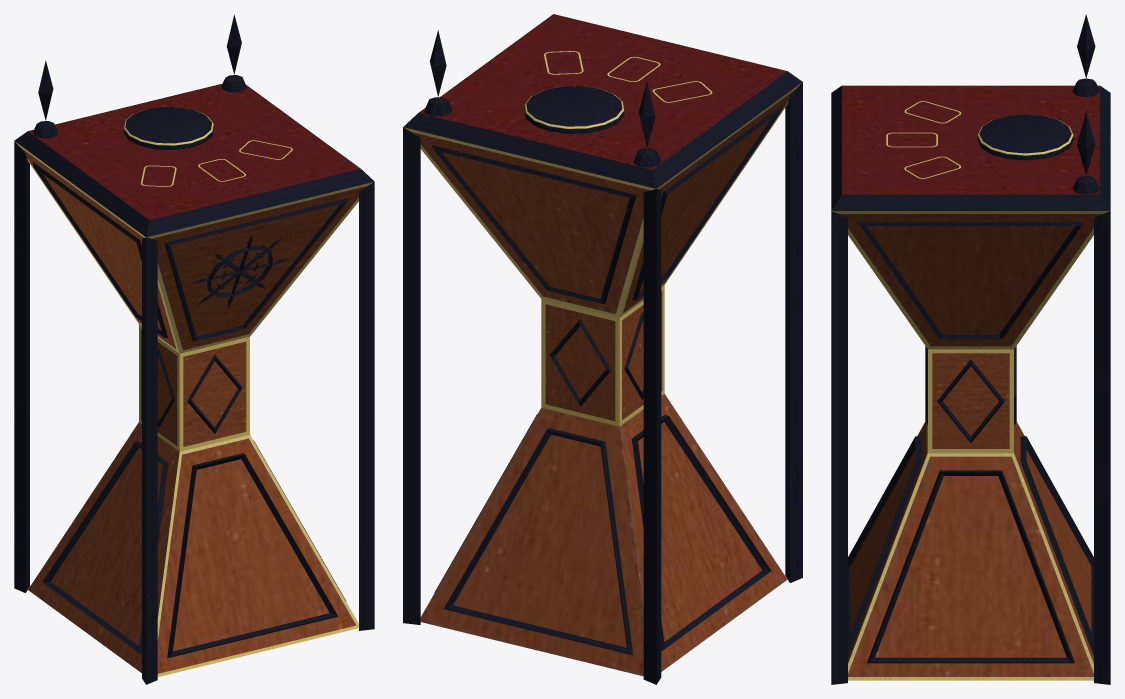
The model's file is plak_table.fbx.
The picture shows the model from 3 angles, left to right: view 1: azimuth 30°, elevation 25°; view 2: azimuth 150°, elevation 25°; view 3: azimuth 270°, elevation 25°; orthographic projection. The views are drawn at different scales.
Visible parts, largest first — view 1: plak_table; view 2: plak_table; view 3: plak_table.
Part boxes in pixels (box(x1,y1,x2,y2)): plak_table: box(14, 14, 374, 684); plak_table: box(403, 14, 802, 684); plak_table: box(831, 14, 1110, 684).
Bounding box in the file's own units: 48.72 × 108 × 48.72.
